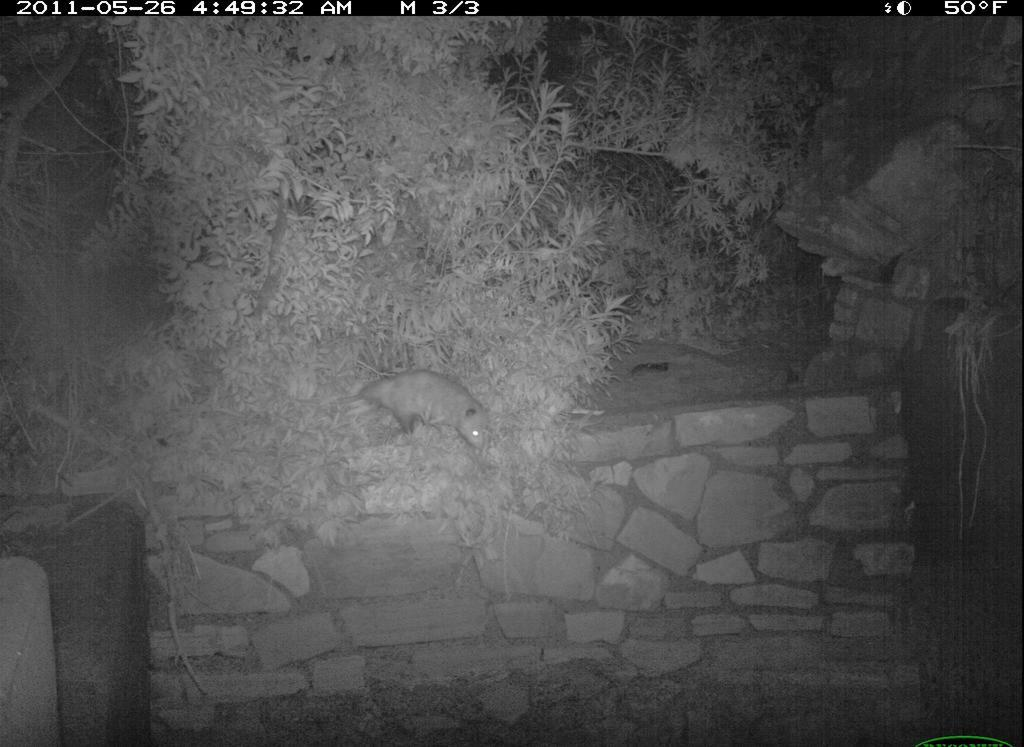opossum: (318, 365, 502, 464)
